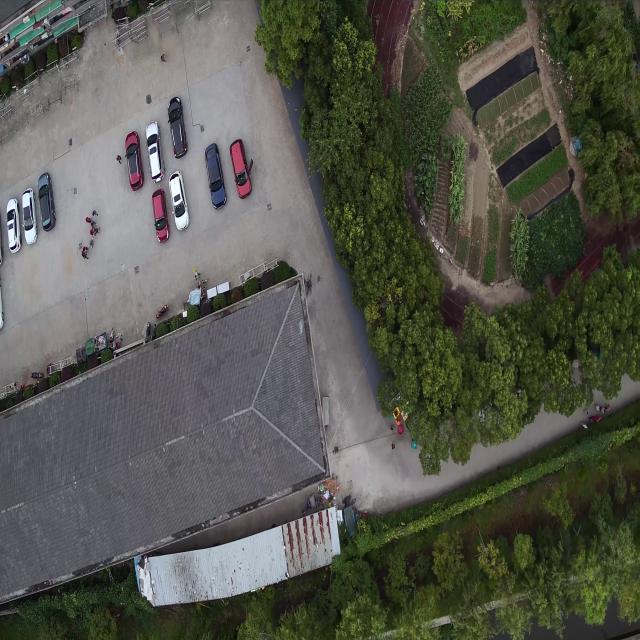UAV: (294, 317, 309, 337)
